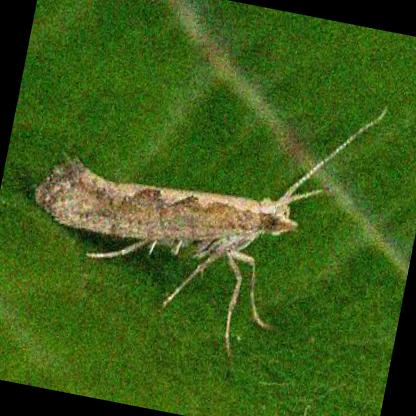plutella: (31, 96, 392, 365)
